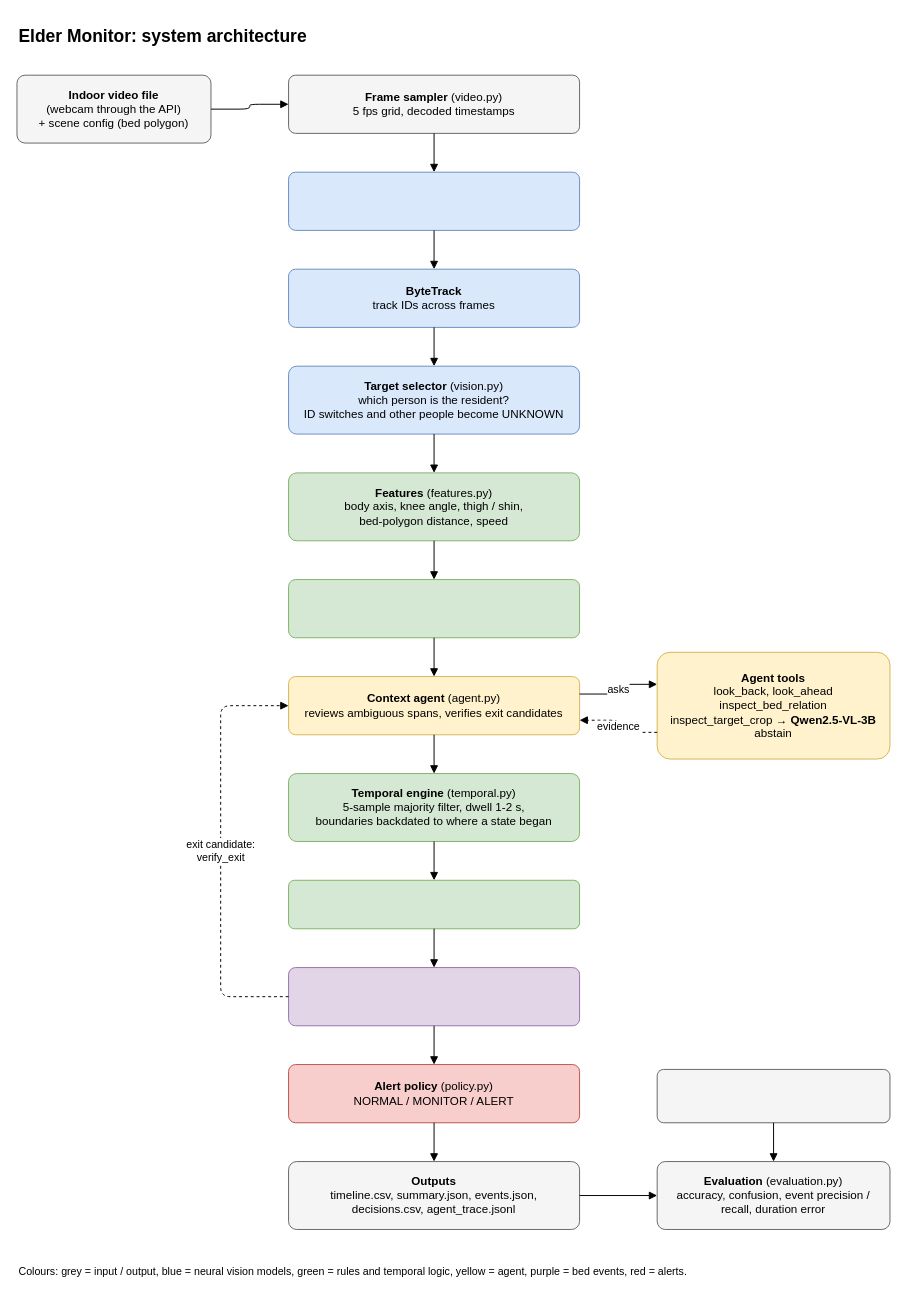
This 907x1304 diagram has some shape labels left out. Here are the shapes that lost their labels. From the top down, the box of each, then its label:
(288, 171, 580, 230): YOLO11n-pose person boxes + 17 body keypoints
(288, 579, 580, 638): Frame proposals (temporal.propose) posture rules + hysteresis per sample
(288, 879, 580, 929): Activity timeline + bed-status timeline
(288, 967, 580, 1026): Bed-event state machine (events.py) BED_EXIT / RETURN_TO_BED
(656, 1068, 890, 1123): Labels (examples/annotations/*.json) AI-drafted, not yet human-reviewed
